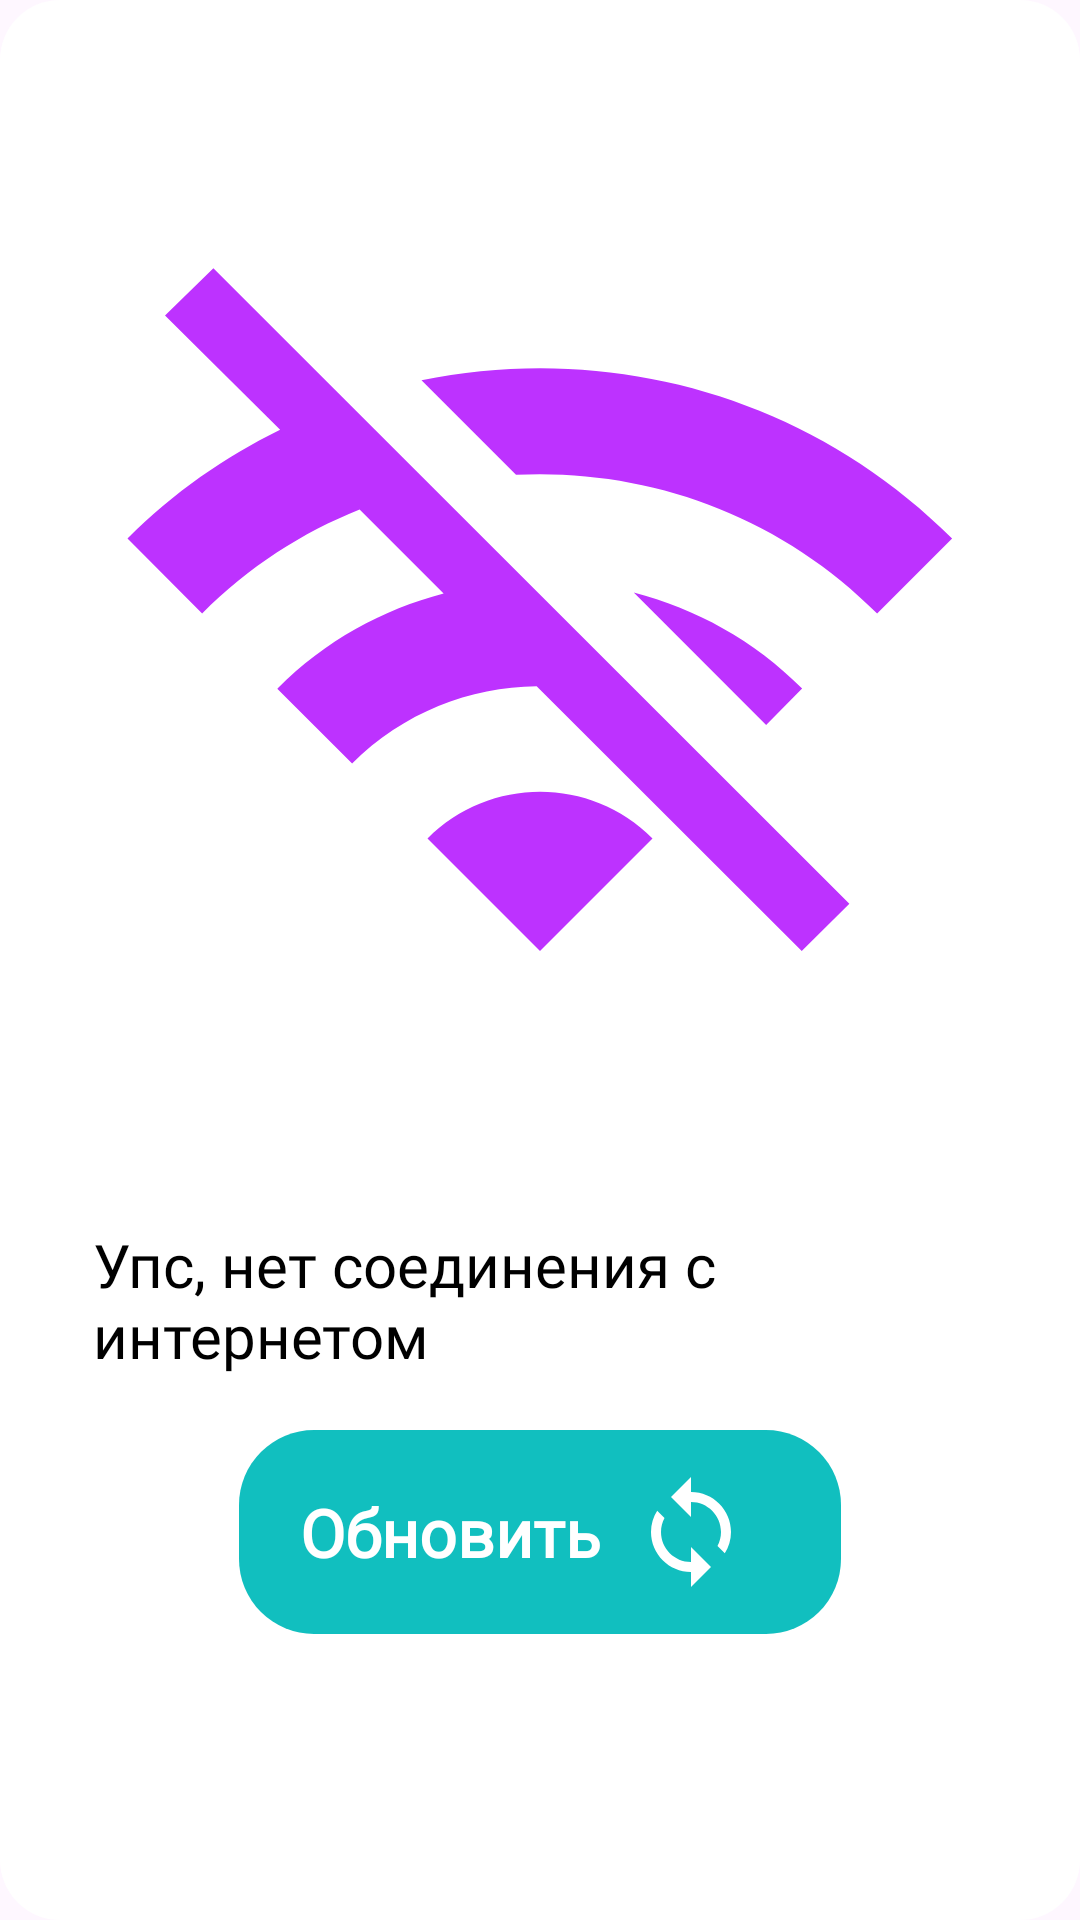

Where icons sit on this 1080w x 1920h app screen, as BBox(x1, y1, x2, y2):
update: BBox(651, 1477, 731, 1587)
